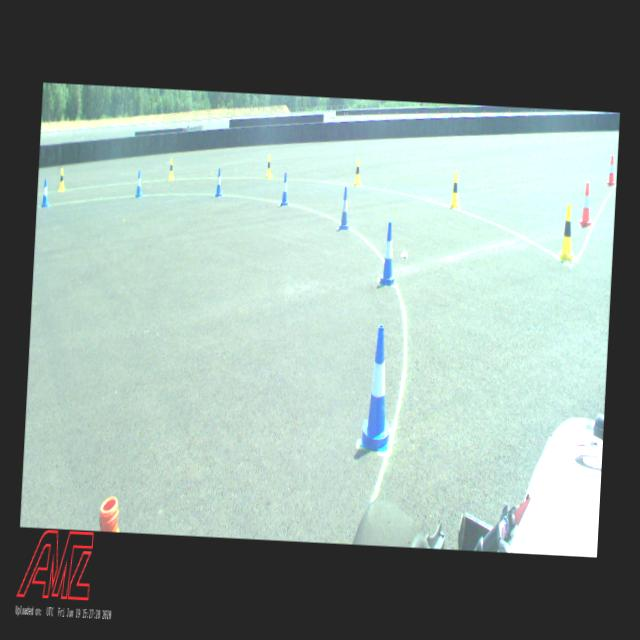blue_cone: (359, 324, 397, 453), (379, 222, 398, 287), (338, 187, 352, 230), (280, 172, 290, 206), (40, 179, 50, 208), (215, 168, 224, 197), (136, 170, 144, 198)
orange_cone: (579, 182, 594, 228), (606, 156, 616, 187)
yellow_cone: (558, 204, 576, 262), (450, 171, 461, 209), (354, 158, 363, 186), (266, 154, 273, 178), (59, 168, 66, 192), (168, 158, 175, 181)
